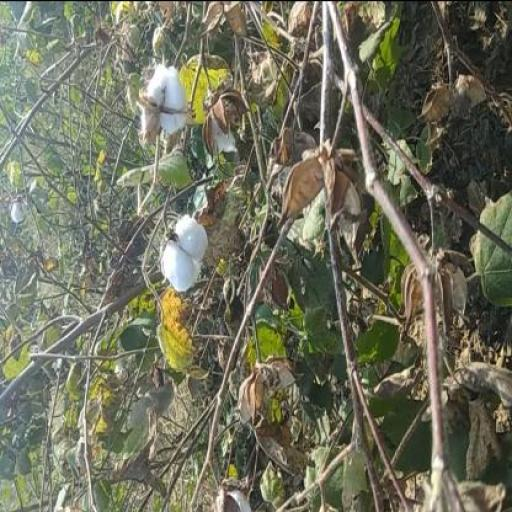cotton_ready: (152, 191, 220, 314), (130, 52, 206, 155)
